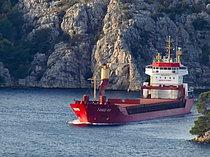Ship: (64, 37, 199, 131)
